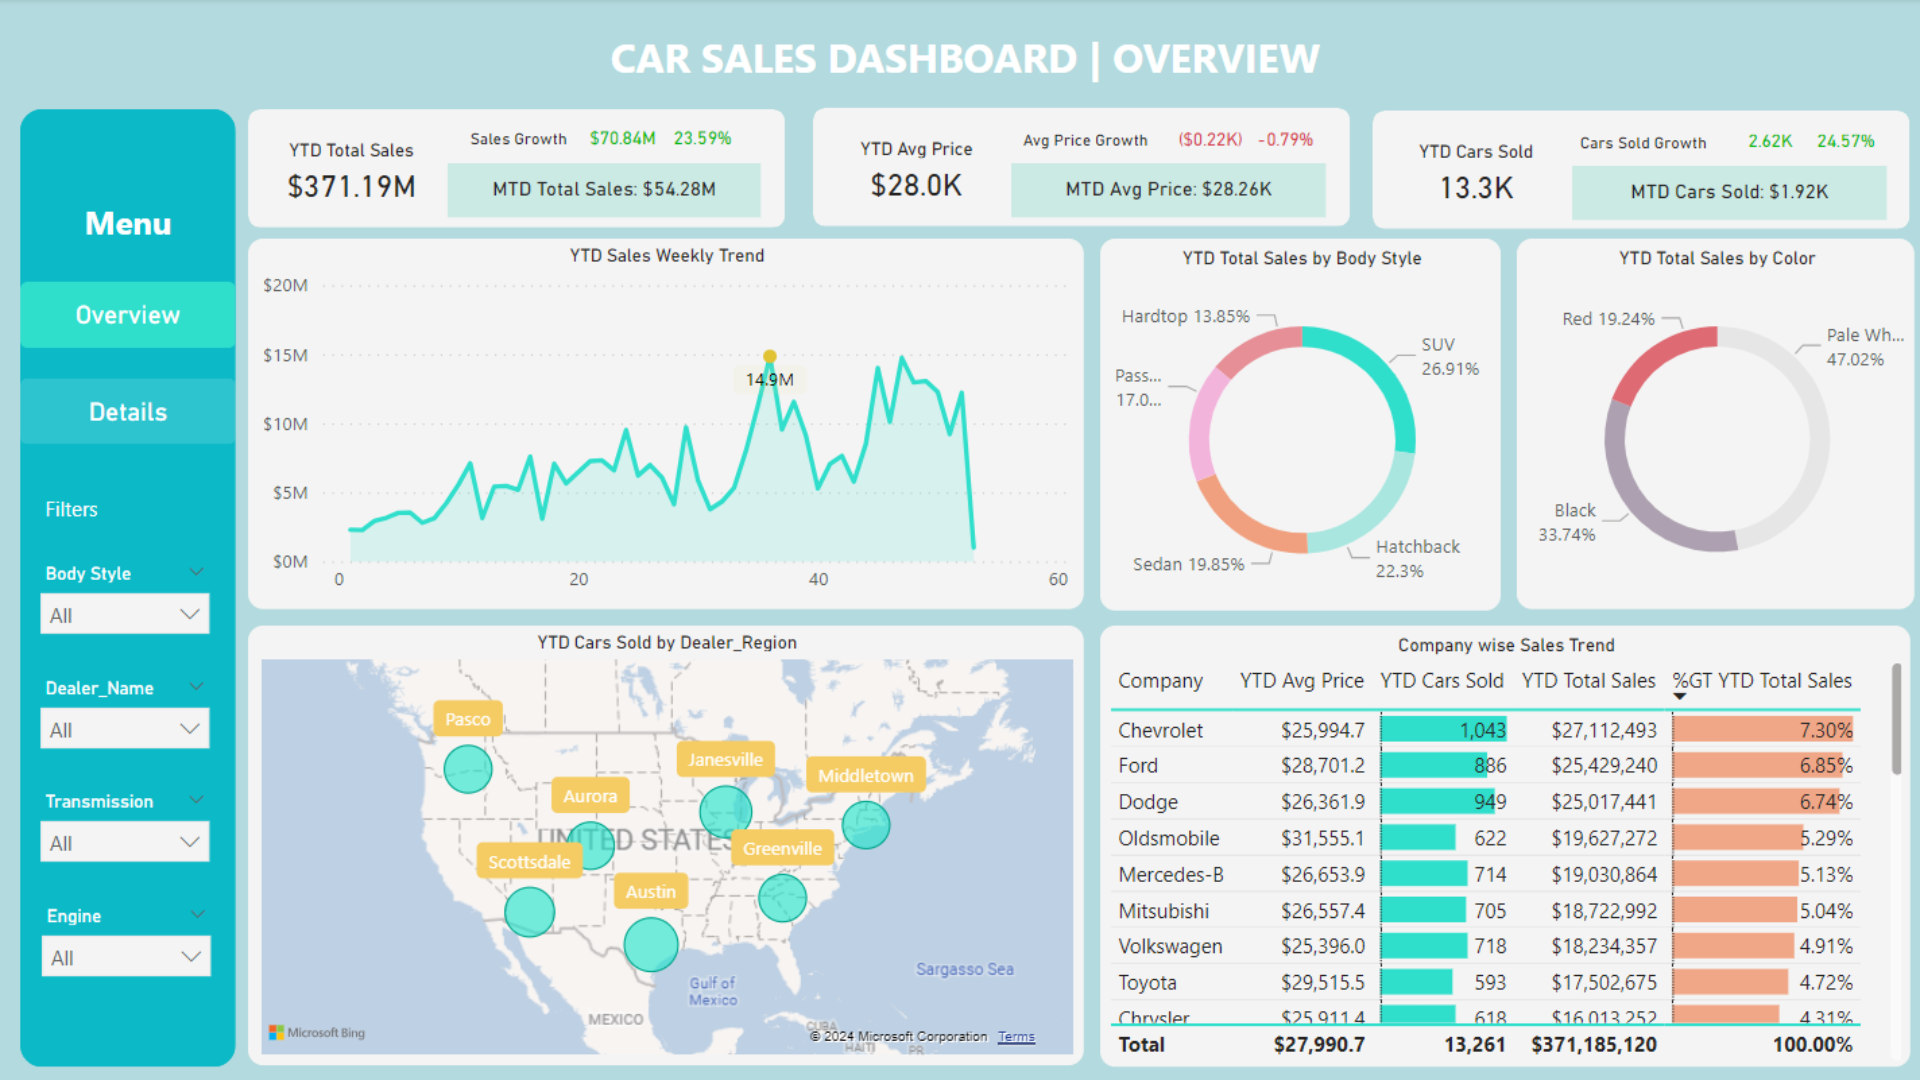

What the dashboard file says about the page in this screenshot:
{"tool":"powerbi","page":{"name":"Overview","canvas":[1280,720],"ordinal":0},"visuals":[{"type":"shape","box":[14,73,143,636],"z":0},{"type":"donutChart","fields":{"Y":["Model Measures.YTD Total Sales"],"Category":["car_data.Body Style"]},"box":[731.3,159.6,266.4,247.4],"z":1000},{"type":"donutChart","fields":{"Y":["Model Measures.YTD Total Sales"],"Category":["car_data.Color"]},"box":[1008.6,159.6,264.4,246.4],"z":2000},{"type":"slicer","fields":{"Values":["car_data.Body Style"]},"box":[18,370,131.7,75.8],"z":2000,"group":"g2"},{"type":"slicer","fields":{"Values":["car_data.Body Style"]},"box":[166,416,131.7,75.8],"z":2000,"group":"g1"},{"type":"shape","box":[165.8,73.4,356.7,78.7],"z":3000},{"type":"slicer","fields":{"Values":["car_data.Dealer_Name"]},"box":[18,445.8,131.7,75.8],"z":3000,"group":"g2"},{"type":"slicer","fields":{"Values":["car_data.Dealer_Name"]},"box":[166,491.8,131.7,75.8],"z":3000,"group":"g1"},{"type":"tableEx","title":"Company wise Sales Trend","fields":{"Values":["car_data.Company","Model Measures.YTD Avg Price","Model Measures.YTD Cars Sold","Model Measures.YTD Total Sales1","Model Measures.YTD Total Sales"]},"box":[731.3,416,537.7,293.3],"z":4000},{"type":"slicer","fields":{"Values":["car_data.Transmission"]},"box":[18,521.6,131.7,75.8],"z":4000,"group":"g2"},{"type":"slicer","fields":{"Values":["car_data.Transmission"]},"box":[166,567.6,131.7,75.8],"z":4000,"group":"g1"},{"type":"areaChart","title":"YTD Sales Weekly Trend","fields":{"Category":["Calender Table.Week"],"Y":["Sum(car_data.Price ($))","Model Measures.Max Point"]},"box":[165.6,159.6,554.7,246.4],"z":5000},{"type":"slicer","fields":{"Values":["car_data.Engine"]},"box":[19,597.5,131.7,75.8],"z":5000,"group":"g2"},{"type":"slicer","fields":{"Values":["car_data.Engine"]},"box":[167,643.5,131.7,75.8],"z":5000,"group":"g1"},{"type":"card","title":"YTD Total Sales","fields":{"Values":["Model Measures.YTD Total Sales"]},"box":[178.4,78.7,112.3,72.4],"z":6000},{"type":"map","fields":{"Size":["Model Measures.YTD Cars Sold"],"Category":["car_data.Dealer_Region"]},"box":[165.6,416,554.7,292.3],"z":7000},{"type":"group","id":"g1","title":"Group 1","box":[166,416,133,304],"z":8000},{"type":"card","fields":{"Values":["Model Measures.MTD KPI"]},"box":[298.1,109.6,208.2,35.7],"z":9000},{"type":"card","title":"YTD Total Sales","fields":{"Values":["Model Measures.Sales Difference"]},"box":[385,73.4,58.8,37.8],"z":10000},{"type":"card","title":"YTD Total Sales","fields":{"Values":["Model Measures.YoY Sales Growth"]},"box":[439.6,73.4,55.6,37.8],"z":11000},{"type":"textbox","box":[298,77.6,94.4,35.7],"z":12000},{"type":"shape","box":[540.9,73,356.7,78.7],"z":13000},{"type":"card","title":"YTD Avg Price","fields":{"Values":["Model Measures.YTD Avg Price"]},"box":[553.5,78.2,112.3,72.4],"z":14000},{"type":"card","fields":{"Values":["Model Measures.MTD Avg Price KPI"]},"box":[672.6,109.6,209.4,35.7],"z":15000},{"type":"card","title":"YTD Total Sales","fields":{"Values":["Model Measures.Avg Price Diff"]},"box":[775.3,74.5,58.8,37.8],"z":16000},{"type":"card","title":"YTD Total Sales","fields":{"Values":["Model Measures.YoT Avg Price Growth"]},"box":[826.8,74.5,55.6,37.8],"z":17000},{"type":"textbox","box":[666.2,78.7,111.2,34.6],"z":18000},{"type":"shape","box":[912.9,74.6,356.7,78.7],"z":19000},{"type":"card","title":"YTD Cars Sold","fields":{"Values":["Model Measures.YTD Cars Sold"]},"box":[925.4,79.8,112.3,72.4],"z":20000},{"type":"card","fields":{"Values":["Model Measures.MTD Cars Sold KPI"]},"box":[1044.7,110.9,209.4,35.7],"z":21000},{"type":"card","title":"YTD Total Sales","fields":{"Values":["Model Measures.Cars Sold Diff"]},"box":[1146.9,75.1,59.1,37],"z":22000},{"type":"card","title":"YTD Total Sales","fields":{"Values":["Model Measures.YoT Cars Sold Growth"]},"box":[1198.7,75.1,55.4,37],"z":23000},{"type":"textbox","box":[1038.2,80.3,109.1,34.6],"z":24000},{"type":"textbox","box":[14,15,1255,51],"z":25000},{"type":"pageNavigator","box":[14,188,143,109],"z":26000},{"type":"textbox","box":[14,129,143,45],"z":27000},{"type":"textbox","box":[26,325,47,45],"z":28000},{"type":"group","id":"g2","title":"Group 1","box":[18,370,133,304],"z":29000}]}

Visuals, with their boxes in screenshot pixels (x1, y1, x2, y2), scaled from the page's 1280x720 canvas onto the 1920x1080 screenshot:
shape: (left=21, top=110, right=236, bottom=1064)
donutChart - Model Measures.YTD Total Sales x car_data.Body Style: (left=1097, top=239, right=1497, bottom=610)
donutChart - Model Measures.YTD Total Sales x car_data.Color: (left=1513, top=239, right=1910, bottom=609)
slicer - car_data.Body Style: (left=27, top=555, right=225, bottom=669)
slicer - car_data.Body Style: (left=249, top=624, right=447, bottom=738)
shape: (left=249, top=110, right=784, bottom=228)
slicer - car_data.Dealer_Name: (left=27, top=669, right=225, bottom=782)
slicer - car_data.Dealer_Name: (left=249, top=738, right=447, bottom=851)
"Company wise Sales Trend" tableEx: (left=1097, top=624, right=1904, bottom=1064)
slicer - car_data.Transmission: (left=27, top=782, right=225, bottom=896)
slicer - car_data.Transmission: (left=249, top=851, right=447, bottom=965)
"YTD Sales Weekly Trend" areaChart: (left=248, top=239, right=1080, bottom=609)
slicer - car_data.Engine: (left=28, top=896, right=226, bottom=1010)
slicer - car_data.Engine: (left=250, top=965, right=448, bottom=1079)
"YTD Total Sales" card: (left=268, top=118, right=436, bottom=227)
map - Model Measures.YTD Cars Sold x car_data.Dealer_Region: (left=248, top=624, right=1080, bottom=1062)
"Group 1" group: (left=249, top=624, right=448, bottom=1079)
card - Model Measures.MTD KPI: (left=447, top=164, right=759, bottom=218)
"YTD Total Sales" card: (left=578, top=110, right=666, bottom=167)
"YTD Total Sales" card: (left=659, top=110, right=743, bottom=167)
textbox: (left=447, top=116, right=589, bottom=170)
shape: (left=811, top=110, right=1346, bottom=228)
"YTD Avg Price" card: (left=830, top=117, right=999, bottom=226)
card - Model Measures.MTD Avg Price KPI: (left=1009, top=164, right=1323, bottom=218)
"YTD Total Sales" card: (left=1163, top=112, right=1251, bottom=168)
"YTD Total Sales" card: (left=1240, top=112, right=1324, bottom=168)
textbox: (left=999, top=118, right=1166, bottom=170)
shape: (left=1369, top=112, right=1904, bottom=230)
"YTD Cars Sold" card: (left=1388, top=120, right=1557, bottom=228)
card - Model Measures.MTD Cars Sold KPI: (left=1567, top=166, right=1881, bottom=220)
"YTD Total Sales" card: (left=1720, top=113, right=1809, bottom=168)
"YTD Total Sales" card: (left=1798, top=113, right=1881, bottom=168)
textbox: (left=1557, top=120, right=1721, bottom=172)
textbox: (left=21, top=22, right=1904, bottom=99)
pageNavigator: (left=21, top=282, right=236, bottom=446)
textbox: (left=21, top=194, right=236, bottom=261)
textbox: (left=39, top=488, right=110, bottom=555)
"Group 1" group: (left=27, top=555, right=226, bottom=1011)
